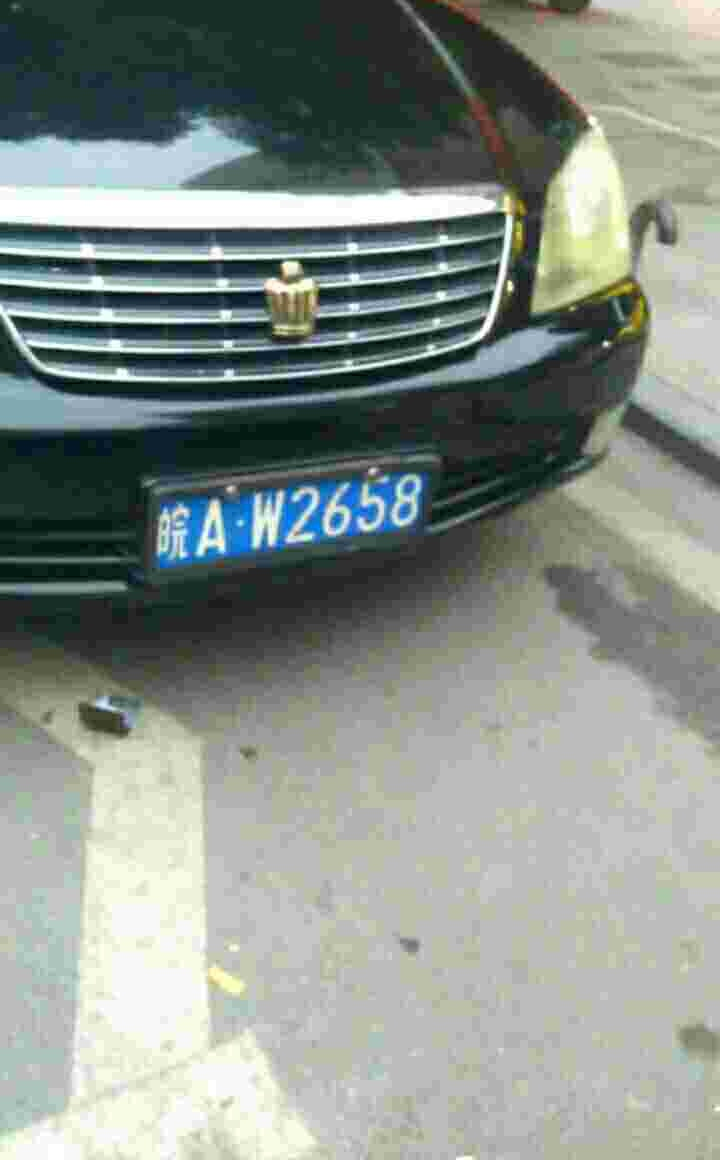car: (147, 483, 424, 547)
